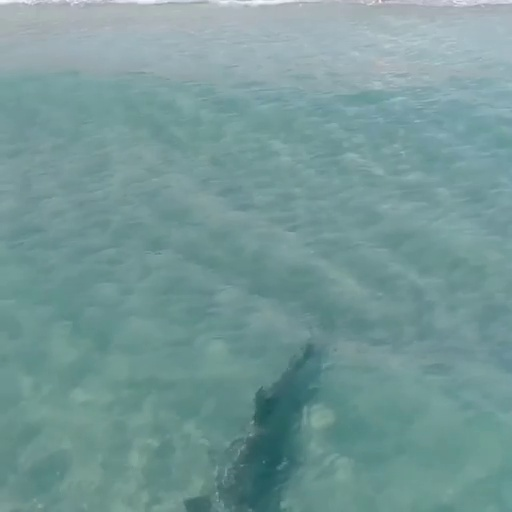shark: (182, 319, 335, 512)
